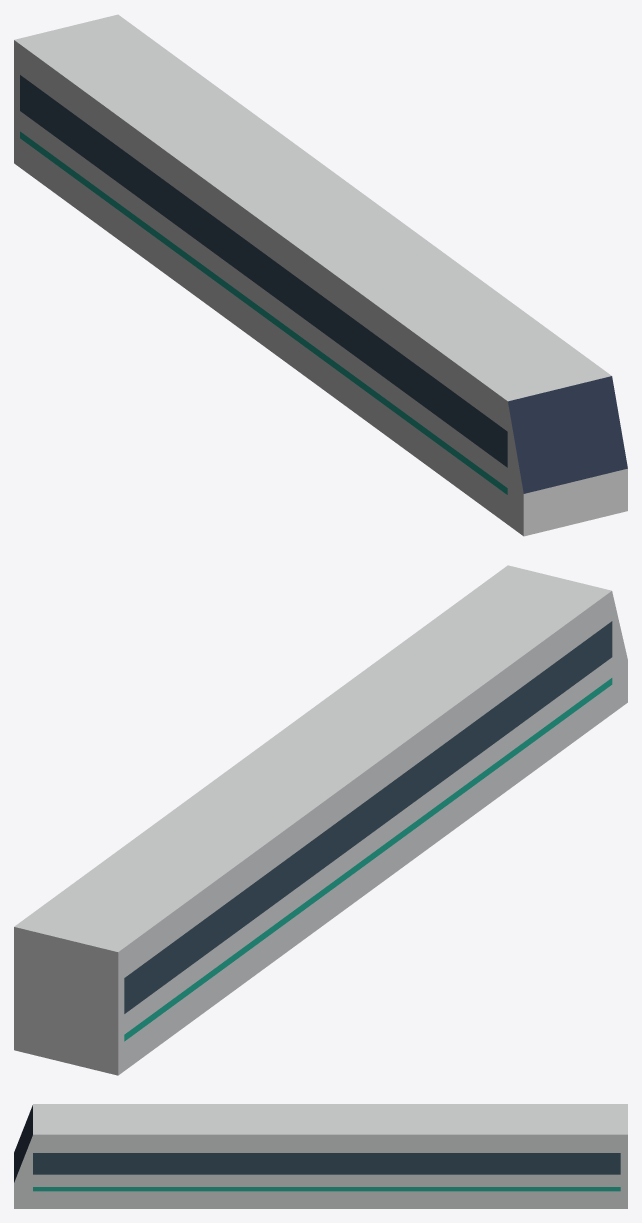
Rendered from 376_far.fbx.
The picture shows the model from 3 angles, top to bottom: view 1: azimuth 30°, elevation 25°; view 2: azimuth 150°, elevation 25°; view 3: azimuth 270°, elevation 25°; orthographic projection. The views are drawn at different scales.
Visible parts, largest first — view 1: 376_far; view 2: 376_far; view 3: 376_far.
Boxes of the visible parts, bbox=[...] form: 376_far: bbox=[14, 14, 627, 536]; 376_far: bbox=[14, 565, 627, 1075]; 376_far: bbox=[14, 1104, 627, 1208].
Bounding box in the file's own units: 2.96 × 3.34 × 25.
